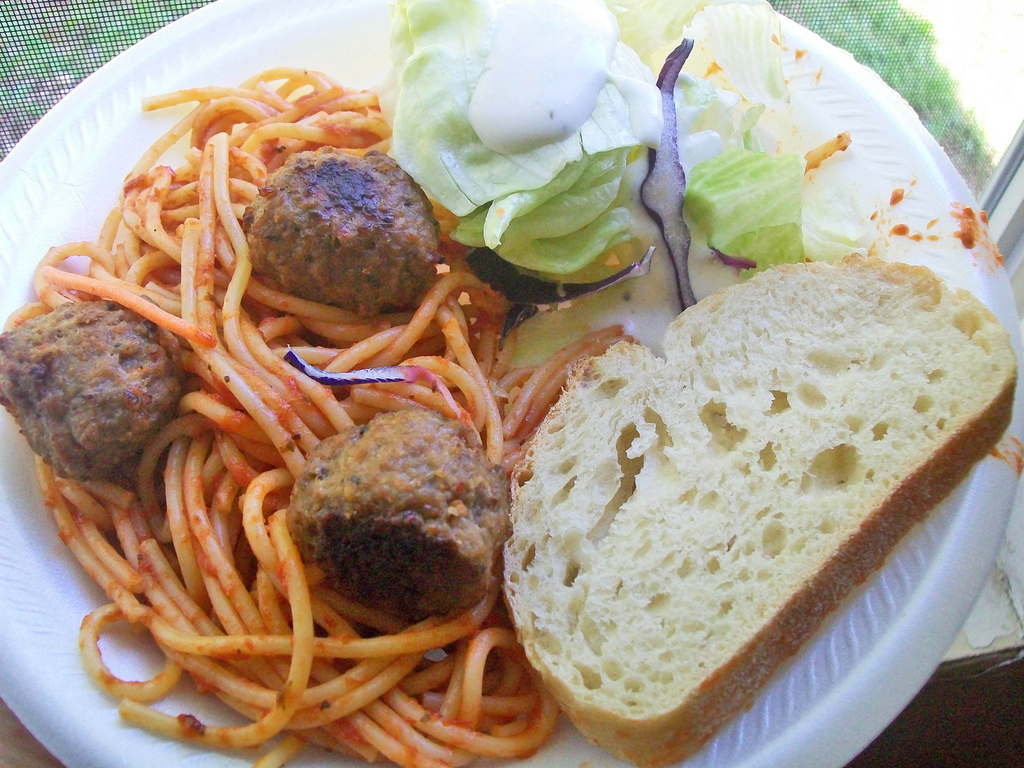chopped lettuce: (396, 2, 863, 266)
meatballs: (286, 425, 499, 607), (247, 150, 437, 309), (4, 312, 165, 458)
plain spaghetti: (134, 153, 240, 294)
slice of bread: (491, 299, 929, 722)
